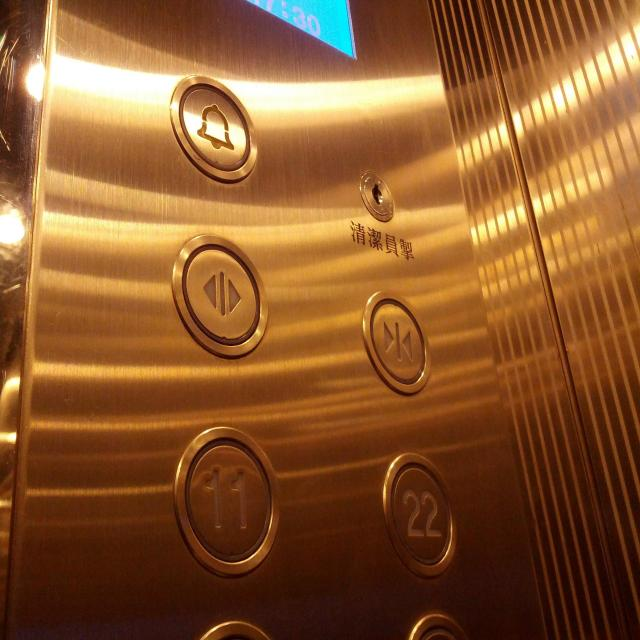11: (172, 424, 280, 574)
22: (382, 452, 456, 578)
alarm: (172, 73, 261, 181)
close: (361, 284, 432, 396)
keyhole: (354, 165, 398, 223)
open: (171, 231, 269, 358)
